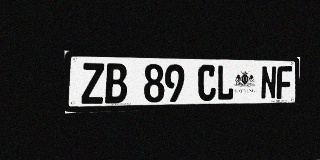8: (144, 64, 164, 102)
9: (165, 64, 184, 102)
B: (105, 63, 127, 103)
C: (198, 65, 216, 101)
F: (276, 66, 292, 99)
L: (216, 65, 234, 101)
N: (260, 66, 277, 99)
Z: (81, 63, 104, 104)
